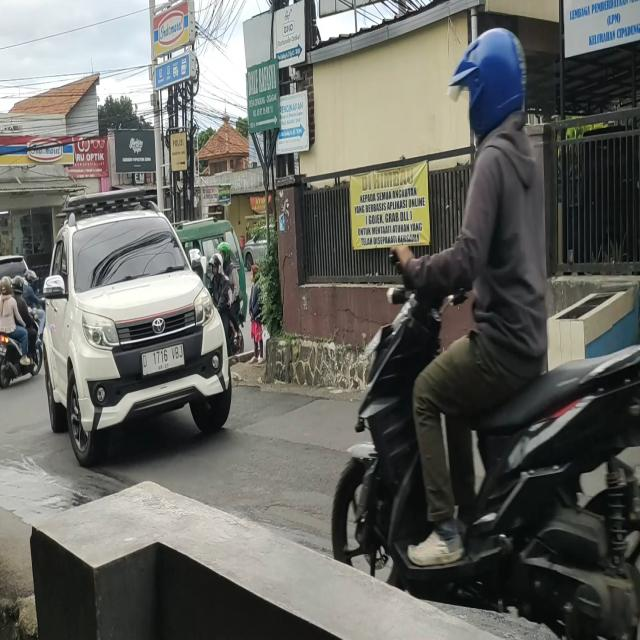helmet: (461, 26, 527, 126), (222, 242, 235, 268), (210, 258, 226, 278), (1, 274, 12, 302), (13, 276, 23, 300), (28, 272, 36, 292)
